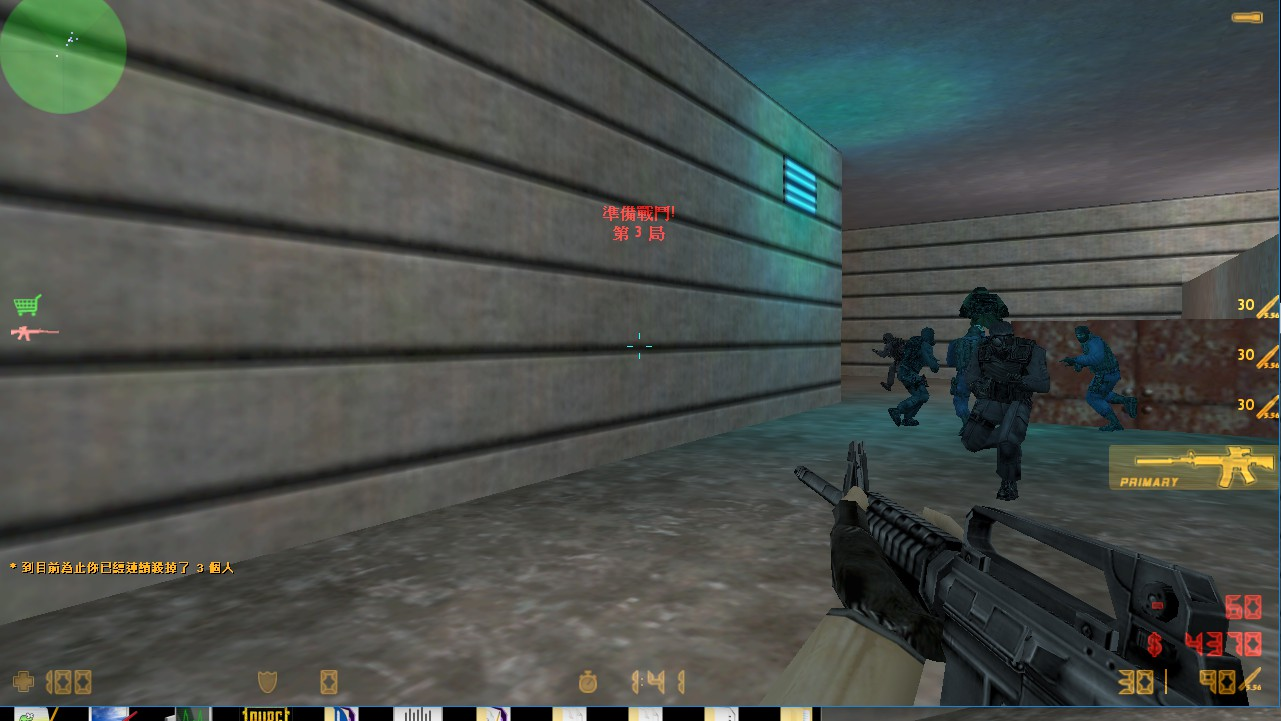person: (969, 326, 1056, 509), (1064, 324, 1137, 435), (946, 325, 993, 432), (893, 325, 938, 426), (959, 285, 1008, 333), (876, 331, 905, 389)
